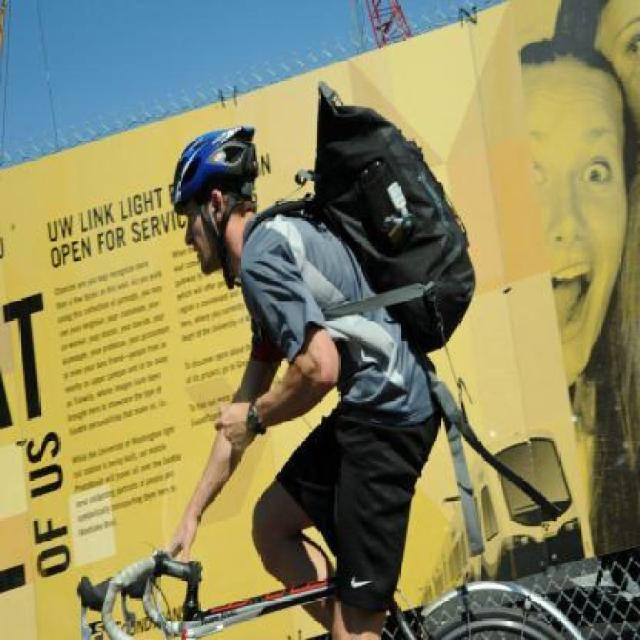backpack: (309, 70, 480, 358)
